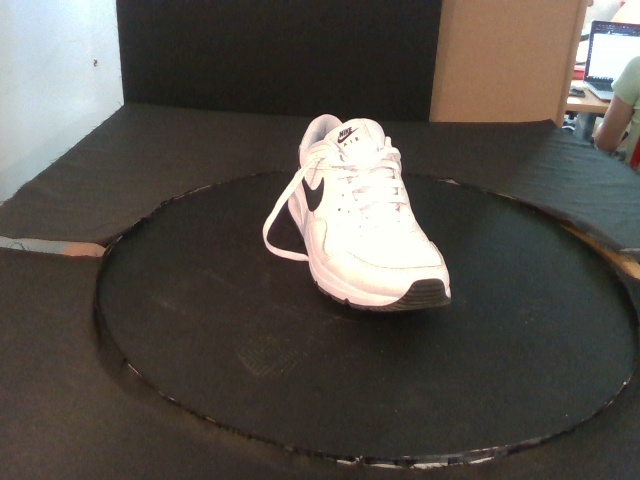shoe: (286, 113, 452, 315)
